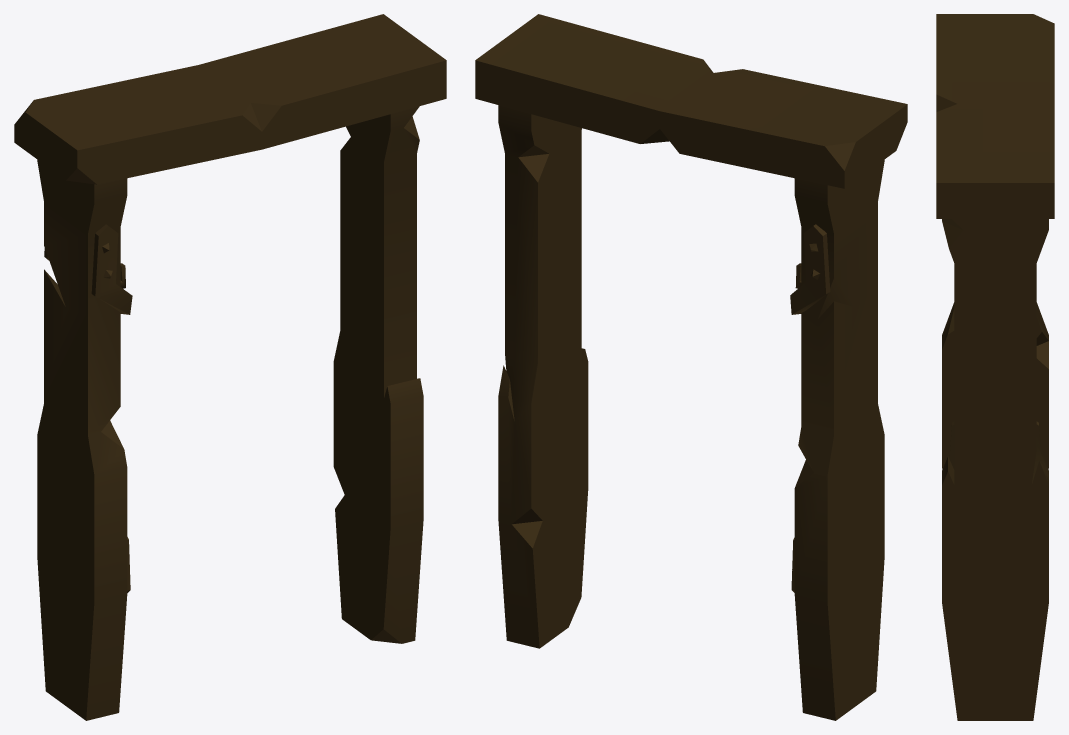
The model's file is gate_wood_01_Mesh.FBX.
3 views of the same model, side by side, from view 1: azimuth 30°, elevation 25°; view 2: azimuth 150°, elevation 25°; view 3: azimuth 270°, elevation 25° (orthographic). The views are drawn at different scales.
Parts seen in each view (by area): view 1: gate_wood_01; view 2: gate_wood_01; view 3: gate_wood_01.
Part boxes in pixels (x1,y1,x2,y2): gate_wood_01: (14, 14, 446, 720); gate_wood_01: (475, 14, 907, 720); gate_wood_01: (936, 14, 1054, 720).
Size of the model in its own units: 1.12 by 1.7 by 0.3331.
